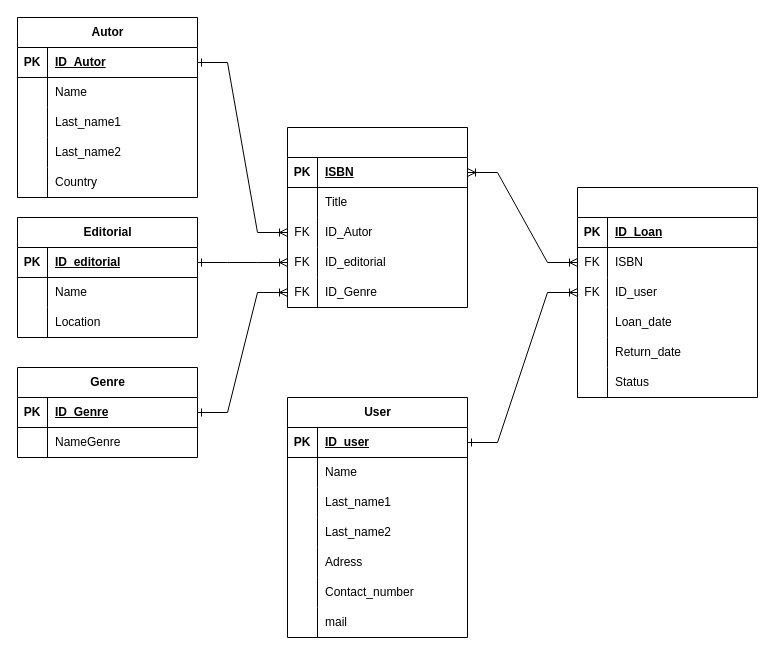
This 775x655 diagram has some shape labels left out. The shapes that lost their labels are listed below. From the top down, each one's box as (x1, y1, x2, y2) in pixels, then its label:
(286, 126, 468, 308): Books
(576, 186, 758, 398): Book_loans
